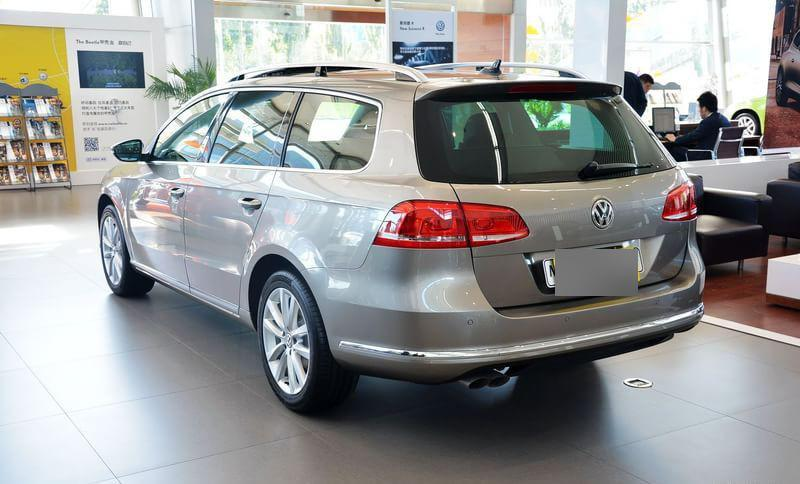Wagon: (95, 58, 709, 415)
